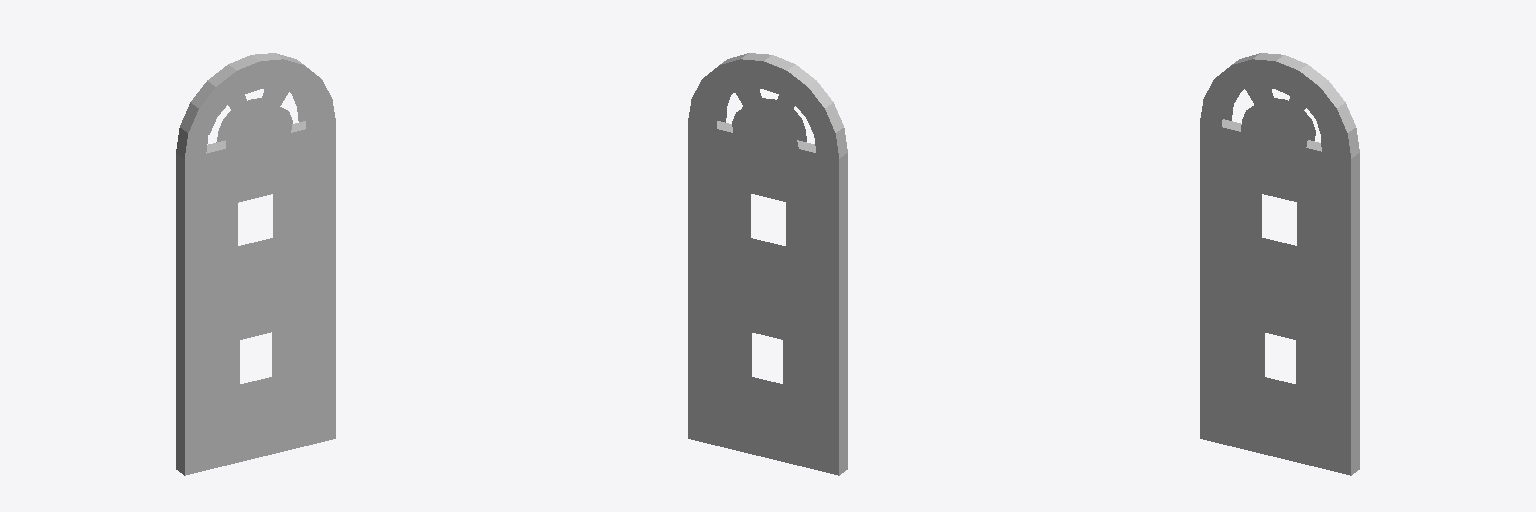
The model's file is door.obj.
3 views of the same model, side by side, from view 1: azimuth 30°, elevation 25°; view 2: azimuth 150°, elevation 25°; view 3: azimuth 330°, elevation 25° (orthographic).
Parts seen in each view (by area): view 1: door; view 2: door; view 3: door.
Boxes of the visible parts, x1=… form: door: x1=176, y1=53, x2=335, y2=475; door: x1=688, y1=53, x2=847, y2=475; door: x1=1200, y1=53, x2=1359, y2=475.
Size of the model in its own units: 2 by 5 by 0.2.